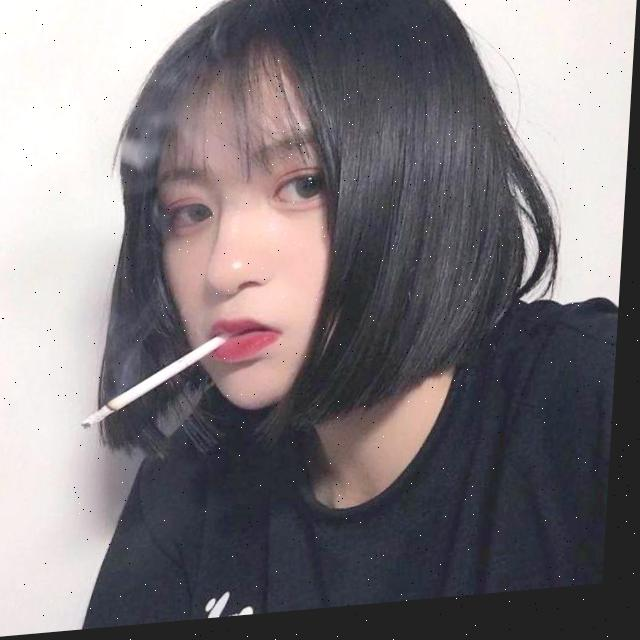cigarette: (86, 335, 240, 432)
